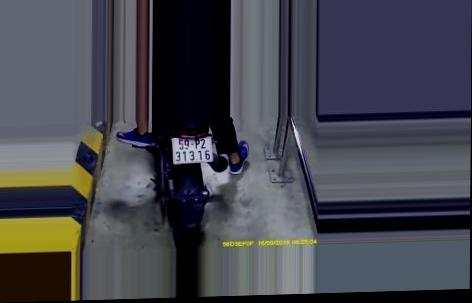License_Plate: (167, 132, 216, 166)
